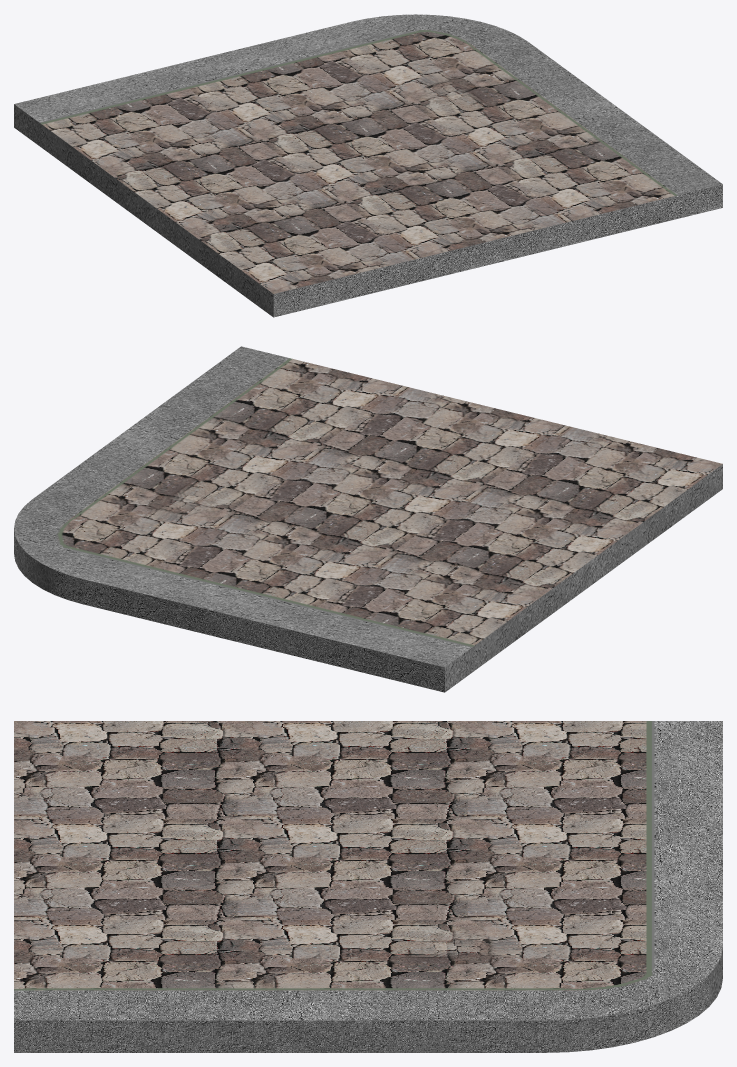
The model's file is Ecke_2x2.fbx.
3 views of the same model, one above another, from view 1: azimuth 30°, elevation 25°; view 2: azimuth 150°, elevation 25°; view 3: azimuth 270°, elevation 25° (orthographic). The views are drawn at different scales.
Visible parts, largest first — view 1: Ecke_2x2; view 2: Ecke_2x2; view 3: Ecke_2x2.
Part boxes in pixels (bbox=[...]): Ecke_2x2: bbox=[14, 14, 722, 317]; Ecke_2x2: bbox=[14, 346, 722, 692]; Ecke_2x2: bbox=[14, 721, 722, 1052].
Size of the model in its own units: 200 by 10 by 200.
1 material, 1 textured.
